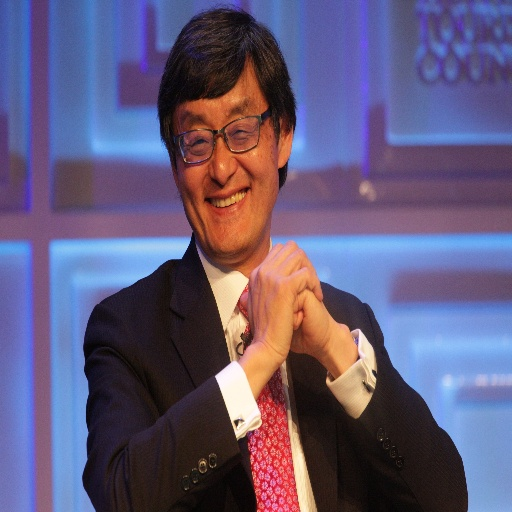hand: (239, 283, 331, 358)
